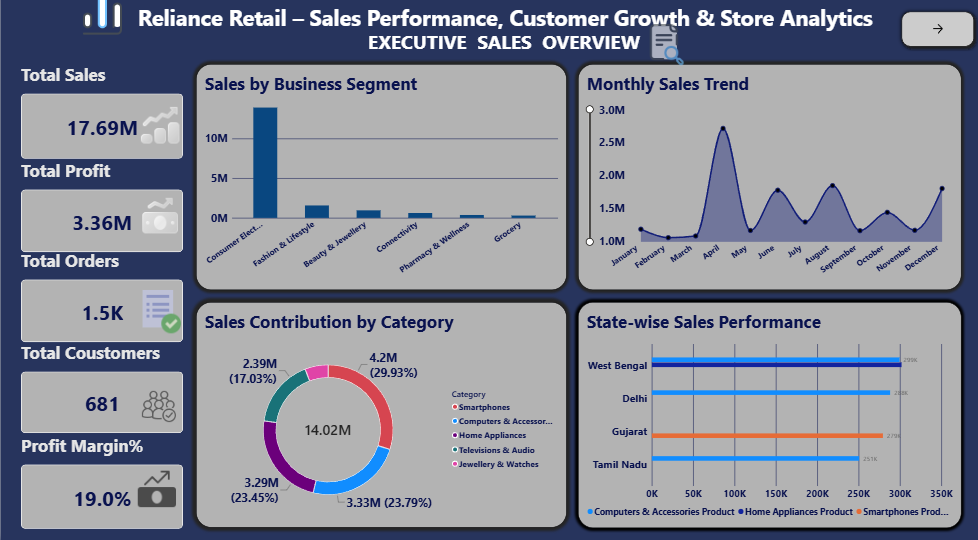

Layout of this report page (visuals, bound fields, positions):
{"tool":"powerbi","page":{"name":"Reliance_Retail  ","canvas":[1920,1080],"ordinal":0},"visuals":[{"type":"textbox","box":[10,0,280,280],"z":0},{"type":"textbox","box":[268.4,21.1,1650,121.1],"z":1000},{"type":"textbox","box":[720.6,73.5,1079.4,361.8],"z":2000},{"type":"cardVisual","title":"Total  Orders","fields":{"Data":["Count(reliance_retail reliance_retail_final_1500rows_25columns.Transaction_ID)"]},"box":[39.5,504.7,318.6,183.7],"z":3000},{"type":"cardVisual","title":"Total  Coustomers","fields":{"Data":["Count(reliance_retail reliance_retail_final_1500rows_25columns.Customer_ID)"]},"box":[39.5,686,318.6,181.4],"z":4000},{"type":"image","box":[241.9,576.7,130.2,93],"z":5000},{"type":"image","box":[234.9,776.7,148.8,67.4],"z":6000},{"type":"cardVisual","title":"Total  Sales","fields":{"Data":["Sum(reliance_retail reliance_retail_final_1500rows_25columns.Sales_Amount)"]},"box":[39.5,139.5,318.6,188.4],"z":7000},{"type":"image","box":[267.4,216.3,90.7,95.3],"z":8000},{"type":"cardVisual","title":"Total   Profit","fields":{"Data":["Sum(reliance_retail reliance_retail_final_1500rows_25columns.Profit)"]},"box":[39.5,327.9,318.6,183.7],"z":9000},{"type":"image","box":[241.9,400,141.9,83.7],"z":10000},{"type":"cardVisual","title":"Profit  Margin%","fields":{"Data":["reliance_retail reliance_retail_final_1500rows_25columns.Profit Margin %"]},"box":[39.5,867.4,318.6,186],"z":11000},{"type":"image","box":[262.8,927.9,86.1,94.4],"z":12000},{"type":"lineChart","title":"Monthly  Sales  Trend","fields":{"Category":["reliance_retail reliance_retail_final_1500rows_25columns.Month"],"Y":["Sum(reliance_retail reliance_retail_final_1500rows_25columns.Sales_Amount)"]},"box":[1132.6,141.9,753.5,444.2],"z":13000},{"type":"clusteredColumnChart","title":"Sales  by  Business  Segment","fields":{"Category":["reliance_retail reliance_retail_final_1500rows_25columns.Business_Segment"],"Y":["Sum(reliance_retail reliance_retail_final_1500rows_25columns.Sales_Amount)"]},"box":[383.7,141.9,727.9,444.2],"z":14000},{"type":"donutChart","title":"Sales  Contribution  by  Category","fields":{"Category":["reliance_retail reliance_retail_final_1500rows_25columns.Category"],"Y":["Sum(reliance_retail reliance_retail_final_1500rows_25columns.Sales_Amount)"]},"box":[383.7,609.3,728.2,443.5],"z":15000},{"type":"clusteredBarChart","title":"State-wise Sales  Performance","fields":{"Category":["reliance_retail reliance_retail_final_1500rows_25columns.State"],"Series":["reliance_retail reliance_retail_final_1500rows_25columns.Product_Name"],"Y":["Sum(reliance_retail reliance_retail_final_1500rows_25columns.Sales_Amount)"]},"box":[1132.6,609.3,753.5,444.2],"z":16000},{"type":"image","box":[1068.4,52.6,467.6,91.2],"z":17000},{"type":"image","box":[73.5,0,252.9,85.3],"z":18000},{"type":"actionButton","box":[1760,30,160,86.7],"z":19000}]}

Visuals, with their boxes in screenshot pixels (x1, y1, x2, y2), scaled from the page's 1920x1080 canvas onto the 978x540 screenshot:
textbox: [5, 0, 148, 140]
textbox: [137, 11, 977, 71]
textbox: [367, 37, 917, 218]
"Total  Orders" cardVisual: [20, 252, 182, 344]
"Total  Coustomers" cardVisual: [20, 343, 182, 434]
image: [123, 288, 190, 335]
image: [120, 388, 195, 422]
"Total  Sales" cardVisual: [20, 70, 182, 164]
image: [136, 108, 182, 156]
"Total   Profit" cardVisual: [20, 164, 182, 256]
image: [123, 200, 195, 242]
"Profit  Margin%" cardVisual: [20, 434, 182, 527]
image: [134, 464, 178, 511]
"Monthly  Sales  Trend" lineChart: [577, 71, 961, 293]
"Sales  by  Business  Segment" clusteredColumnChart: [195, 71, 566, 293]
"Sales  Contribution  by  Category" donutChart: [195, 305, 566, 526]
"State-wise Sales  Performance" clusteredBarChart: [577, 305, 961, 527]
image: [544, 26, 782, 72]
image: [37, 0, 166, 43]
actionButton: [896, 15, 977, 58]
